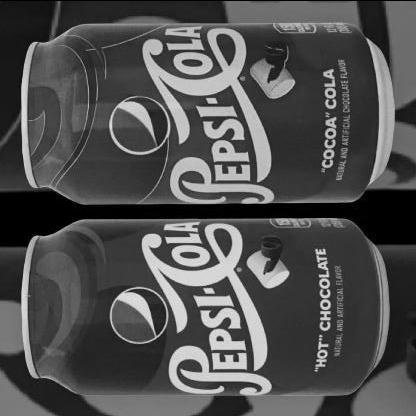alumunium_can: (19, 13, 395, 207), (20, 217, 391, 401)
